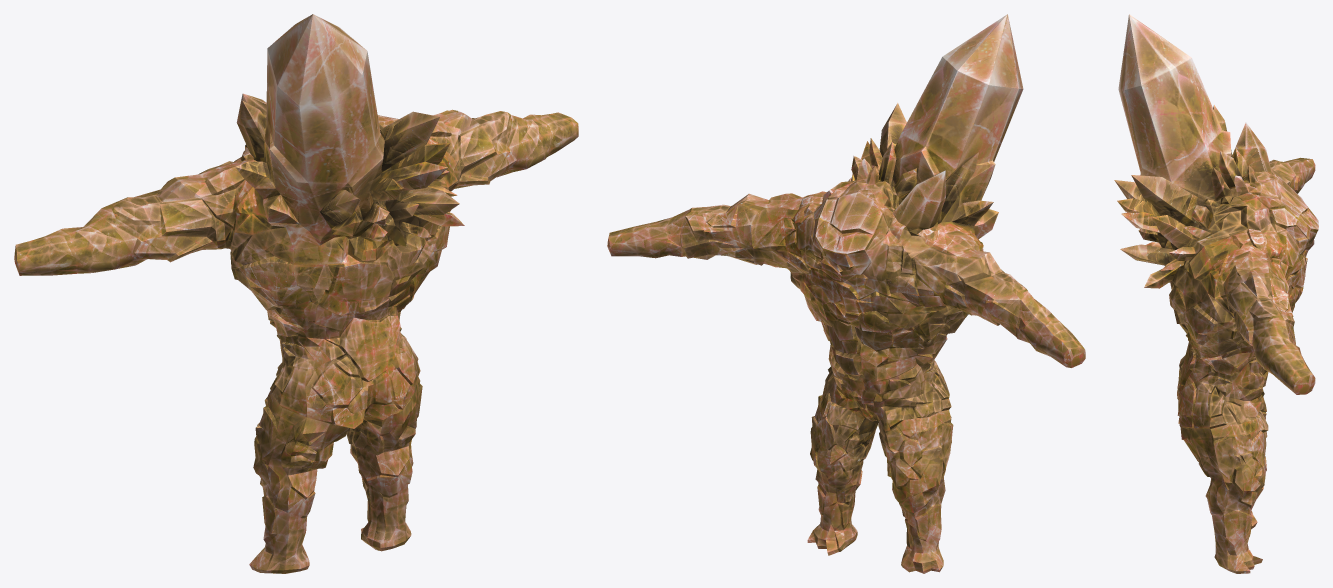
File: gcgolem.obj
The picture shows the model from 3 angles, left to right: view 1: azimuth 30°, elevation 25°; view 2: azimuth 150°, elevation 25°; view 3: azimuth 270°, elevation 25°; orthographic projection. The views are drawn at different scales.
Visible parts, largest first — view 1: mesh8; view 2: mesh8; view 3: mesh8.
Part boxes in pixels (bbox=[...]): mesh8: bbox=[14, 14, 578, 573]; mesh8: bbox=[607, 14, 1085, 573]; mesh8: bbox=[1114, 14, 1318, 573].
Bounding box in the file's own units: 4.35 × 4.54 × 1.69.
